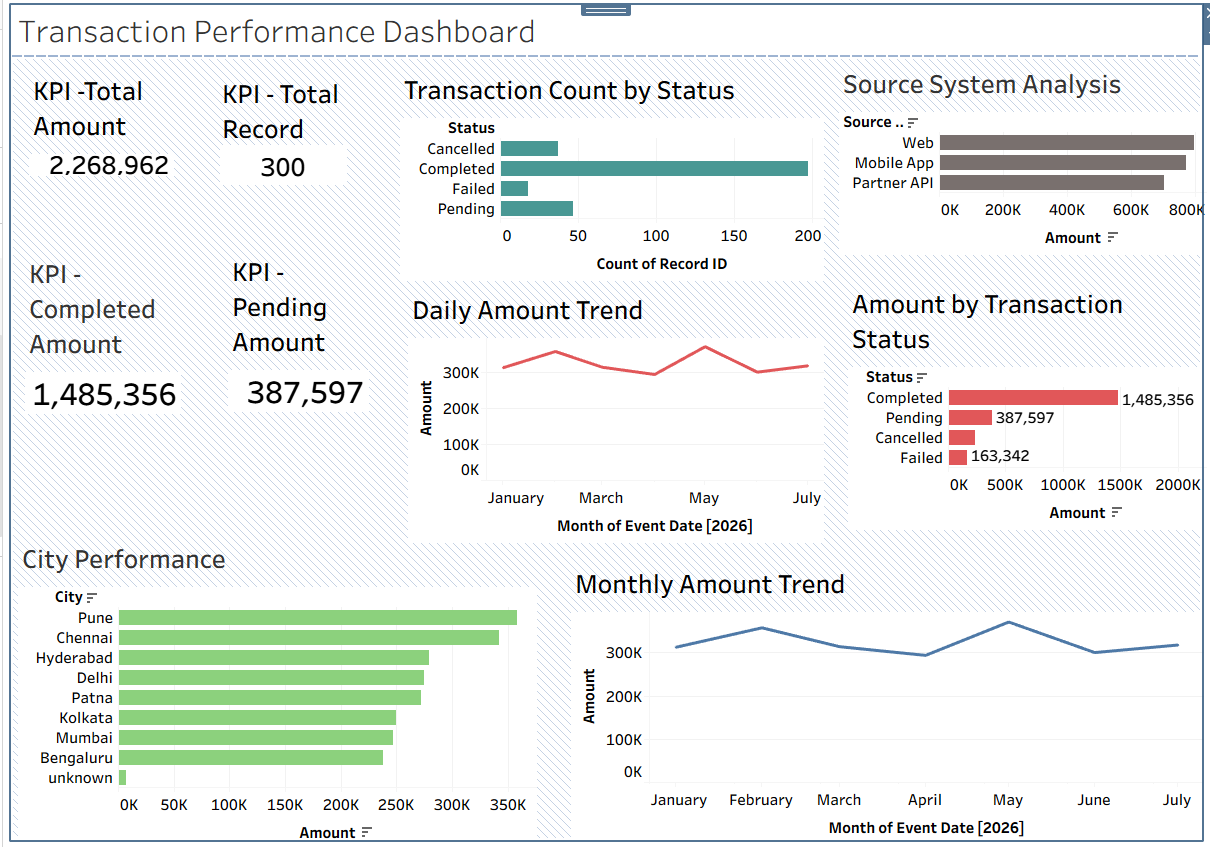

This screenshot's page, from the dashboard's own definition file:
{"tool":"tableau","page":{"name":"Dashboard 1","canvas":[1207,851],"ordinal":0},"visuals":[{"type":"title","box":[8,8,1191,50]},{"type":"worksheet","title":"Sheet 7","mark":"Automatic","rows":["Source_System"],"cols":["Amount"],"box":[836,65,368,283]},{"type":"worksheet","title":"Sheet 9","mark":"Automatic","rows":["status"],"cols":["Record_ID"],"box":[397,71,424,283]},{"type":"worksheet","title":"Sheet 1","mark":"Automatic","box":[26,72,167,120]},{"type":"worksheet","title":"Sheet 11","mark":"Automatic","box":[215,75,160,134]},{"type":"worksheet","title":"Sheet 2","mark":"Text","box":[217,133,185,182]},{"type":"worksheet","title":"Sheet 4","mark":"Automatic","box":[225,253,193,182]},{"type":"worksheet","title":"Sheet 3","mark":"Automatic","box":[22,255,201,212]},{"type":"worksheet","title":"Sheet 5","mark":"Bar","rows":["status"],"cols":["Amount"],"box":[845,285,359,254]},{"type":"worksheet","title":"Sheet 10","mark":"Line","rows":["Amount"],"cols":["Event_Date"],"box":[405,291,416,255]},{"type":"worksheet","title":"Sheet 8","mark":"Line","rows":["Amount"],"cols":["Event_Date"],"box":[568,565,633,283]}]}

Visuals, with their boxes in screenshot pixels (x1, y1, x2, y2), scaled from the page's 1207x851 canvas onto the 1210x847 screenshot:
title: locate(8, 8, 1202, 58)
"Sheet 7" worksheet: locate(838, 65, 1207, 346)
"Sheet 9" worksheet: locate(398, 71, 823, 352)
"Sheet 1" worksheet: locate(26, 72, 193, 191)
"Sheet 11" worksheet: locate(216, 75, 376, 208)
"Sheet 2" worksheet (Text marks): locate(218, 132, 403, 314)
"Sheet 4" worksheet: locate(226, 252, 419, 433)
"Sheet 3" worksheet: locate(22, 254, 224, 465)
"Sheet 5" worksheet (Bar marks): locate(847, 284, 1207, 536)
"Sheet 10" worksheet (Line marks): locate(406, 290, 823, 543)
"Sheet 8" worksheet (Line marks): locate(569, 562, 1204, 844)
